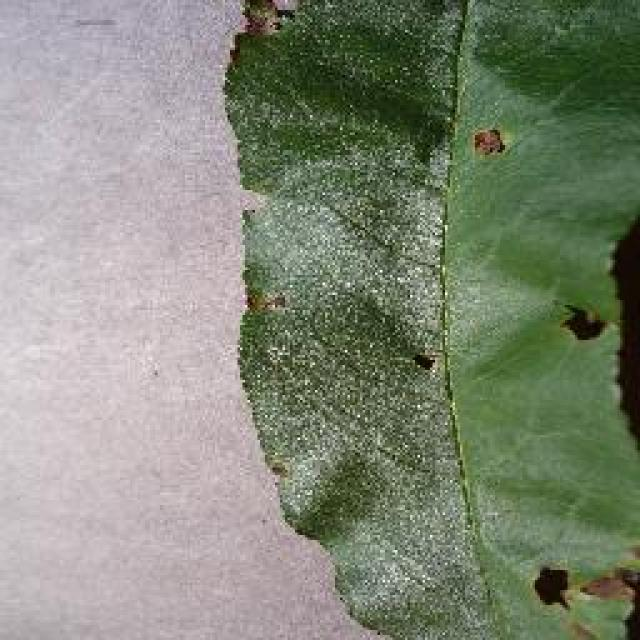Peach_Bacterial_Spot: (245, 24, 623, 614)
